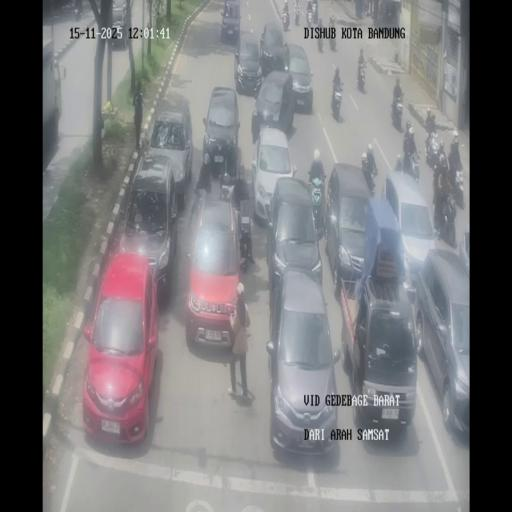3: (41, 39, 59, 162)
car: (82, 252, 160, 443), (340, 253, 418, 438), (268, 268, 339, 456), (413, 252, 469, 442), (185, 193, 246, 349), (382, 171, 437, 289), (326, 164, 374, 291), (146, 99, 192, 205), (252, 124, 296, 225), (201, 86, 240, 184), (252, 70, 295, 139), (285, 43, 313, 112), (258, 22, 290, 75), (235, 34, 262, 95), (107, 1, 129, 48), (220, 1, 240, 43), (459, 232, 470, 282)
truck: (435, 190, 457, 245), (310, 178, 326, 235), (402, 147, 420, 183), (219, 166, 236, 202), (390, 92, 404, 130), (331, 81, 343, 121), (426, 136, 441, 168), (454, 166, 464, 208), (365, 161, 376, 195), (356, 60, 366, 92), (328, 19, 338, 51), (425, 107, 436, 134), (317, 24, 324, 52), (282, 8, 290, 31), (306, 6, 313, 27), (74, 2, 82, 20), (294, 5, 300, 27), (363, 0, 369, 17)
